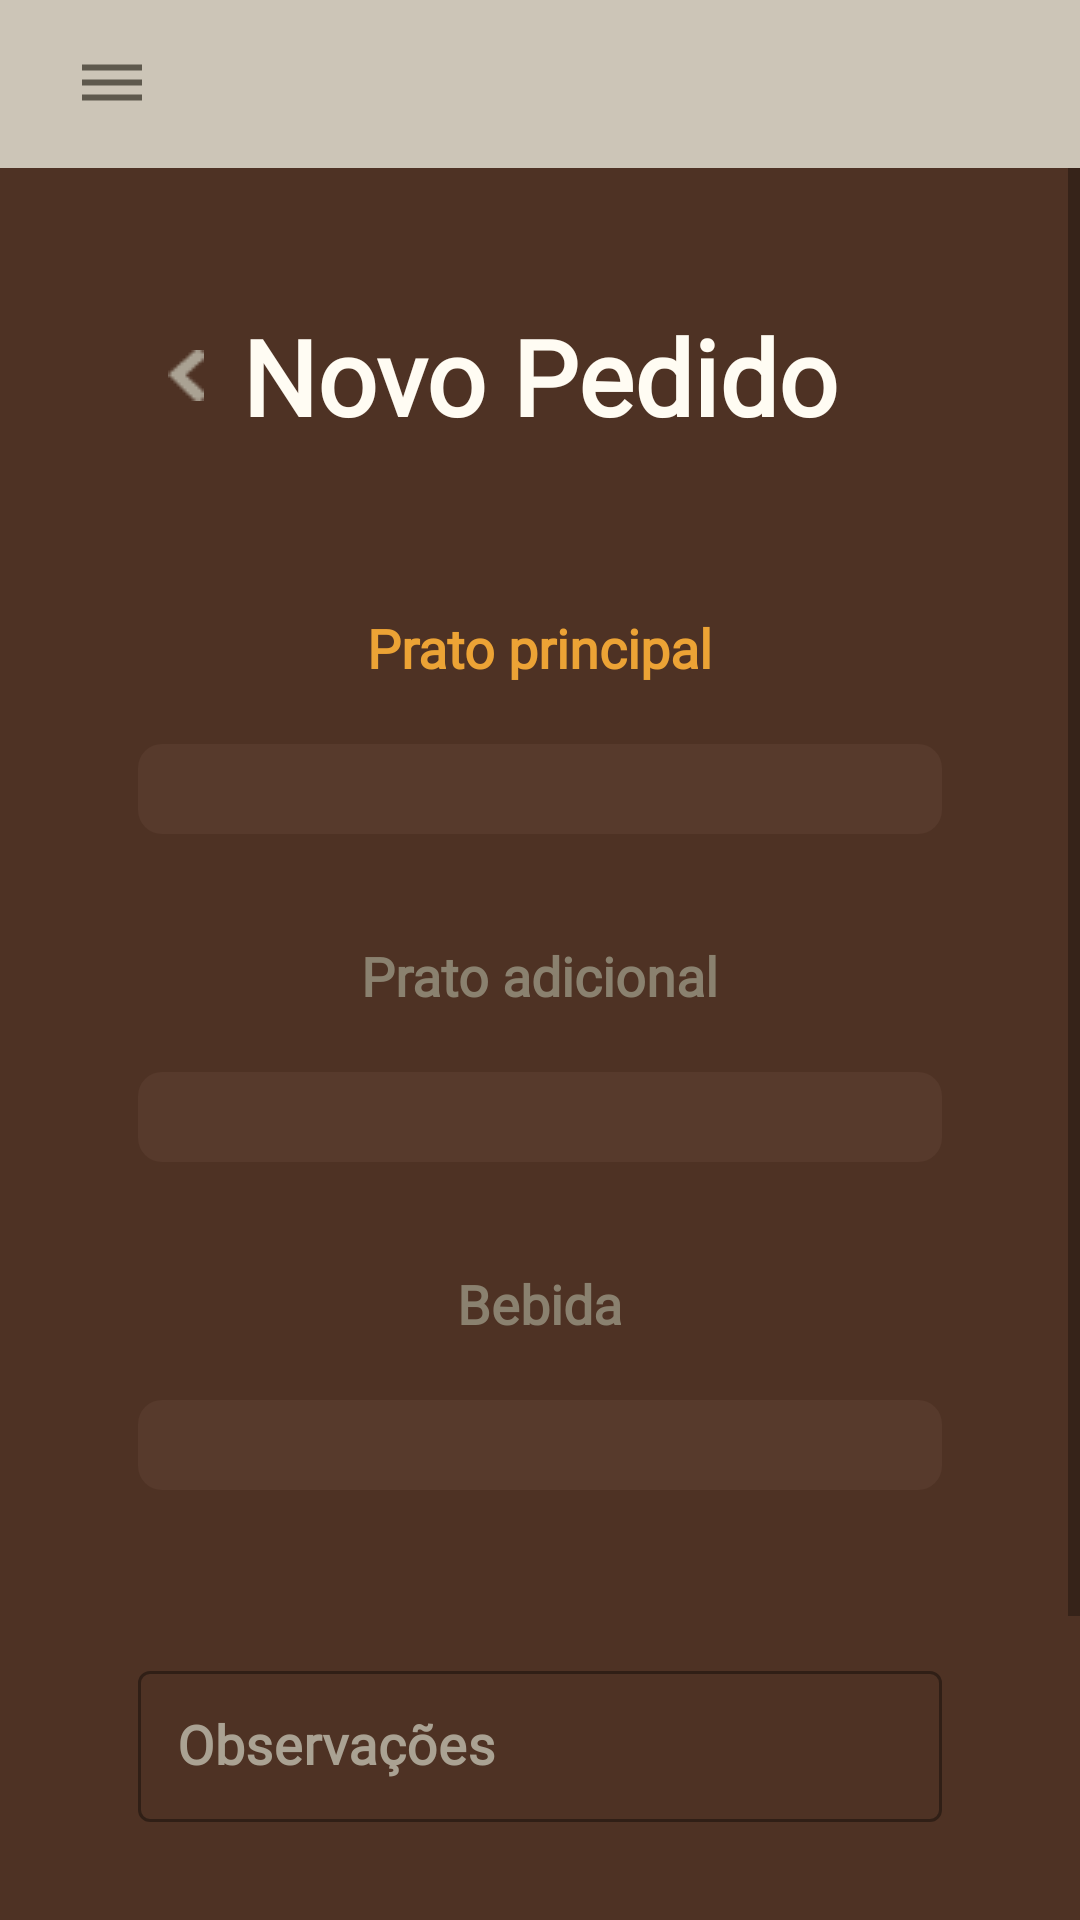

Where icons sit on this 1080px x 1920px app screen, as (x1, y1, x2, y2):
back arrow: (168, 350, 204, 401)
drawer: (82, 64, 142, 101)
